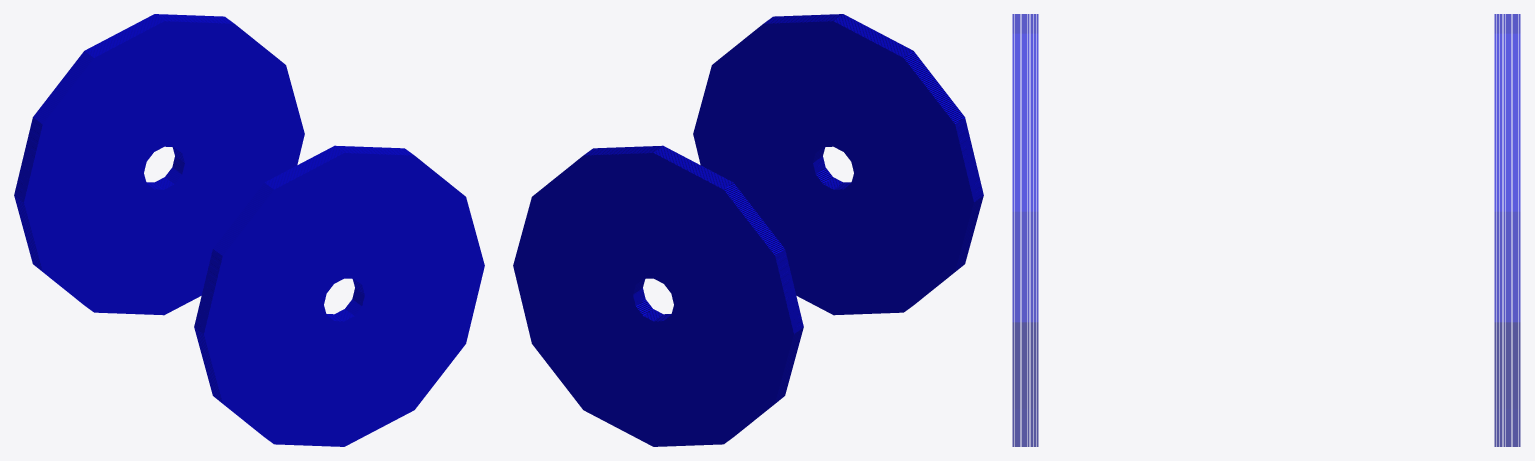
Rendered from ECalEndcap.gltf.
3 views of the same model, side by side, from view 1: azimuth 30°, elevation 25°; view 2: azimuth 150°, elevation 25°; view 3: azimuth 270°, elevation 25° (orthographic). The views are drawn at different scales.
Visible parts, largest first — view 1: ECalEndcap; view 2: ECalEndcap; view 3: ECalEndcap.
Boxes of the visible parts, x1,y1,x2,y2 form: ECalEndcap: (14, 14, 484, 446); ECalEndcap: (513, 14, 983, 446); ECalEndcap: (1012, 14, 1520, 446).
Size of the model in its own units: 4399 by 4399 by 5150.
